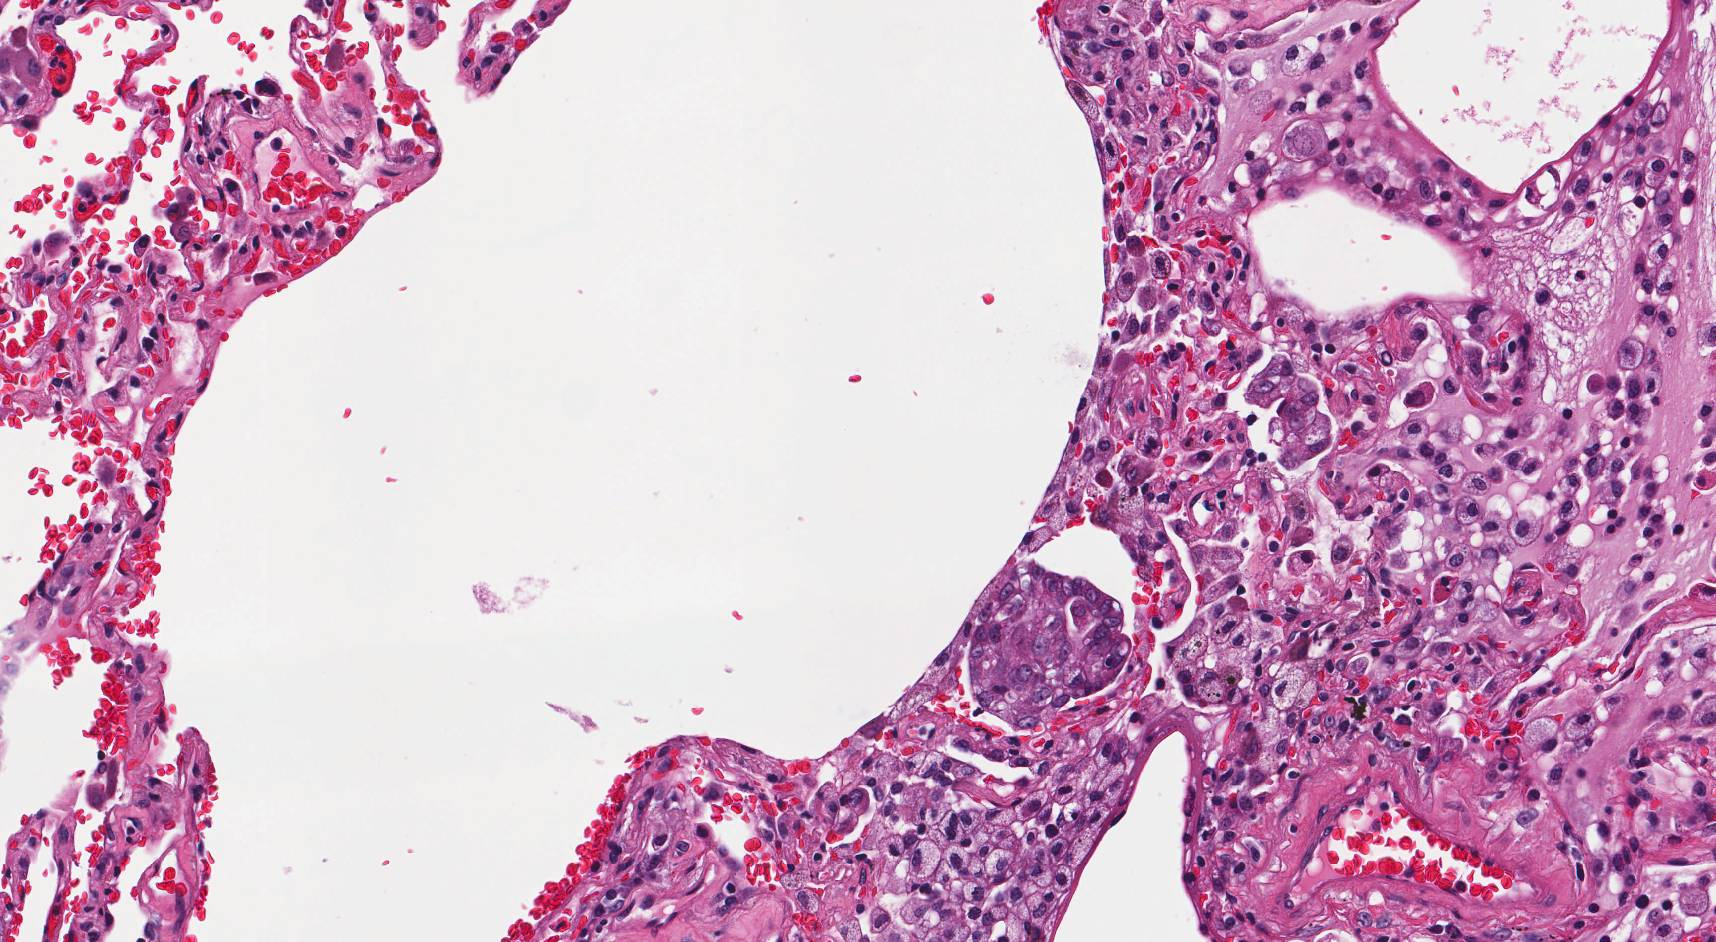stas: (969, 561, 1136, 729), (1249, 354, 1335, 465)
